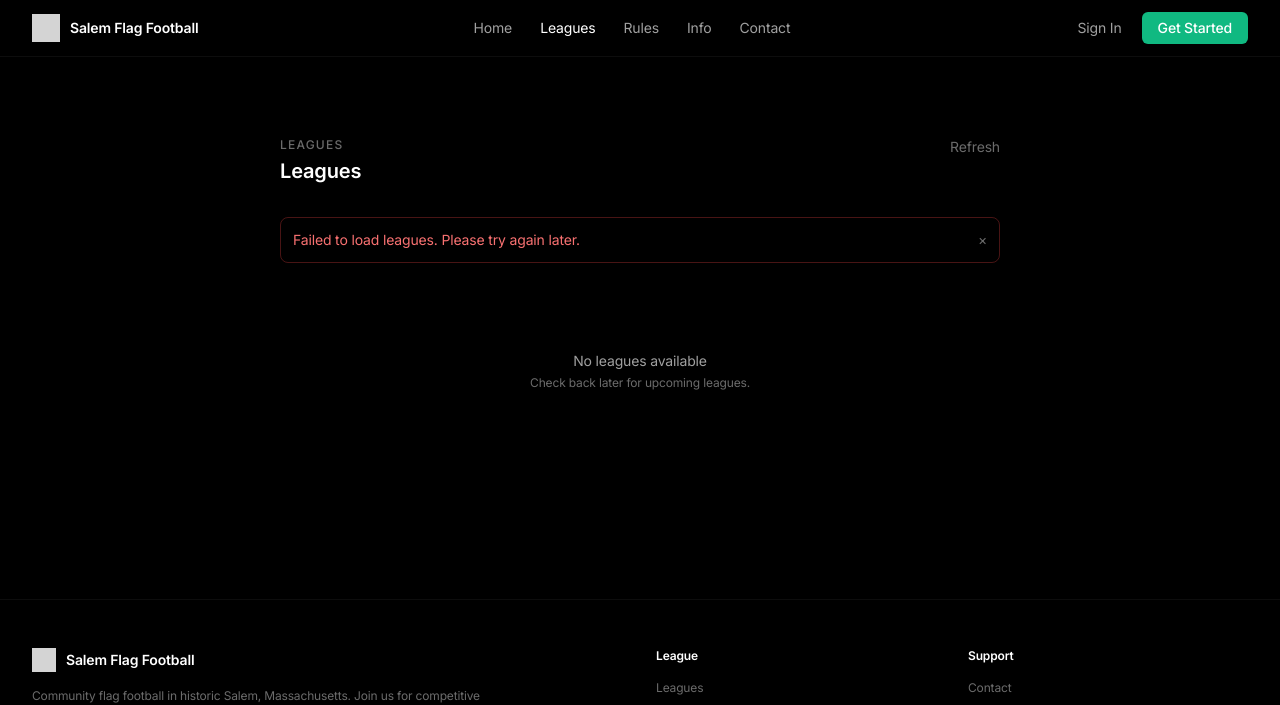
Test: LeaguesPage › closes error banner when × is clicked
The image size is (1280, 705).
Expected: the text "Failed to load leagues. Please try again later." is shown, [293,230,580,250]
Click the button "×": (982, 240) [978,230,987,250]
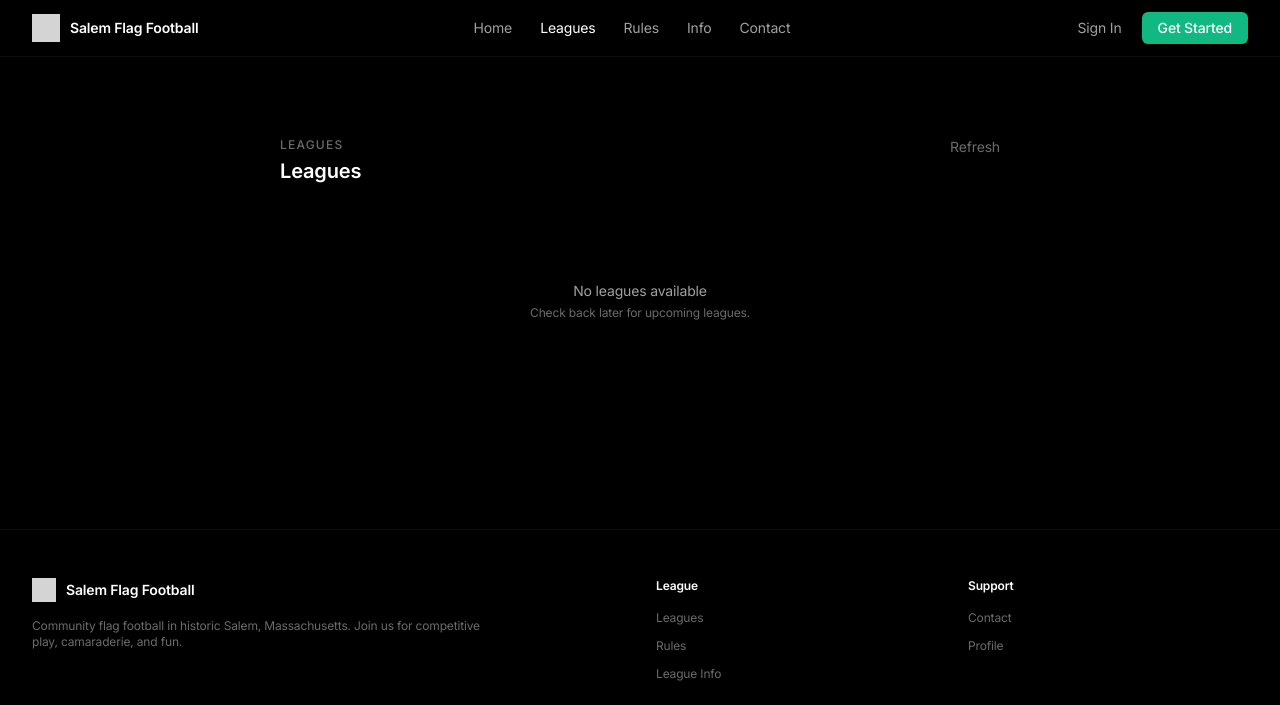
Expected: the text "Failed to load leagues" is gone
